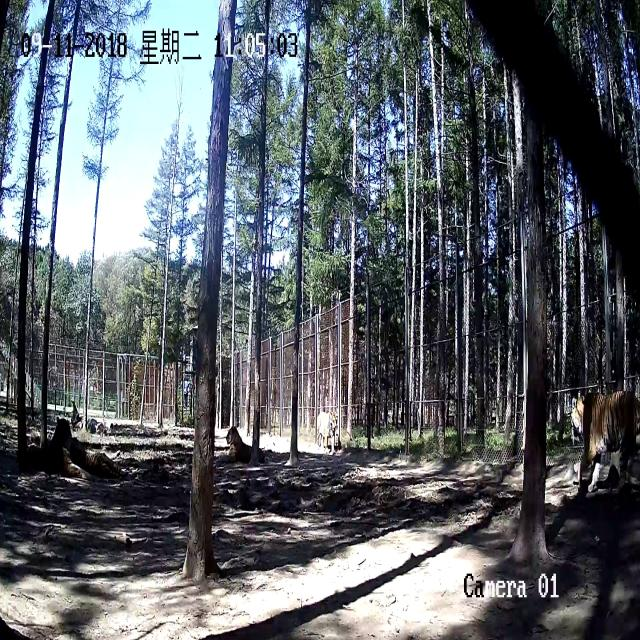Tiger: (568, 380, 638, 502), (15, 414, 86, 492), (312, 398, 354, 459), (86, 446, 137, 494), (216, 422, 268, 466)
